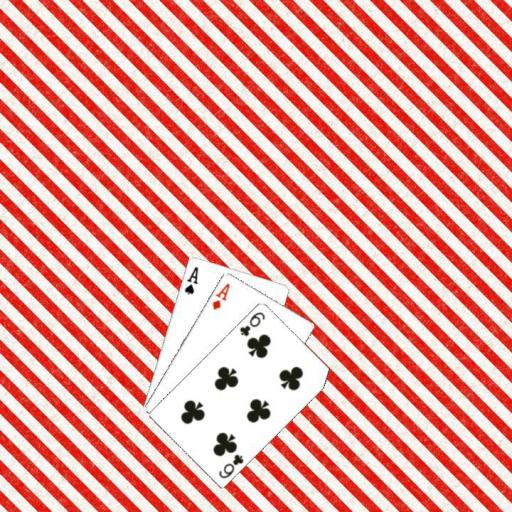6C: (236, 309, 267, 337), (216, 451, 246, 479)
AD: (209, 279, 231, 311)
AS: (181, 263, 200, 296)
